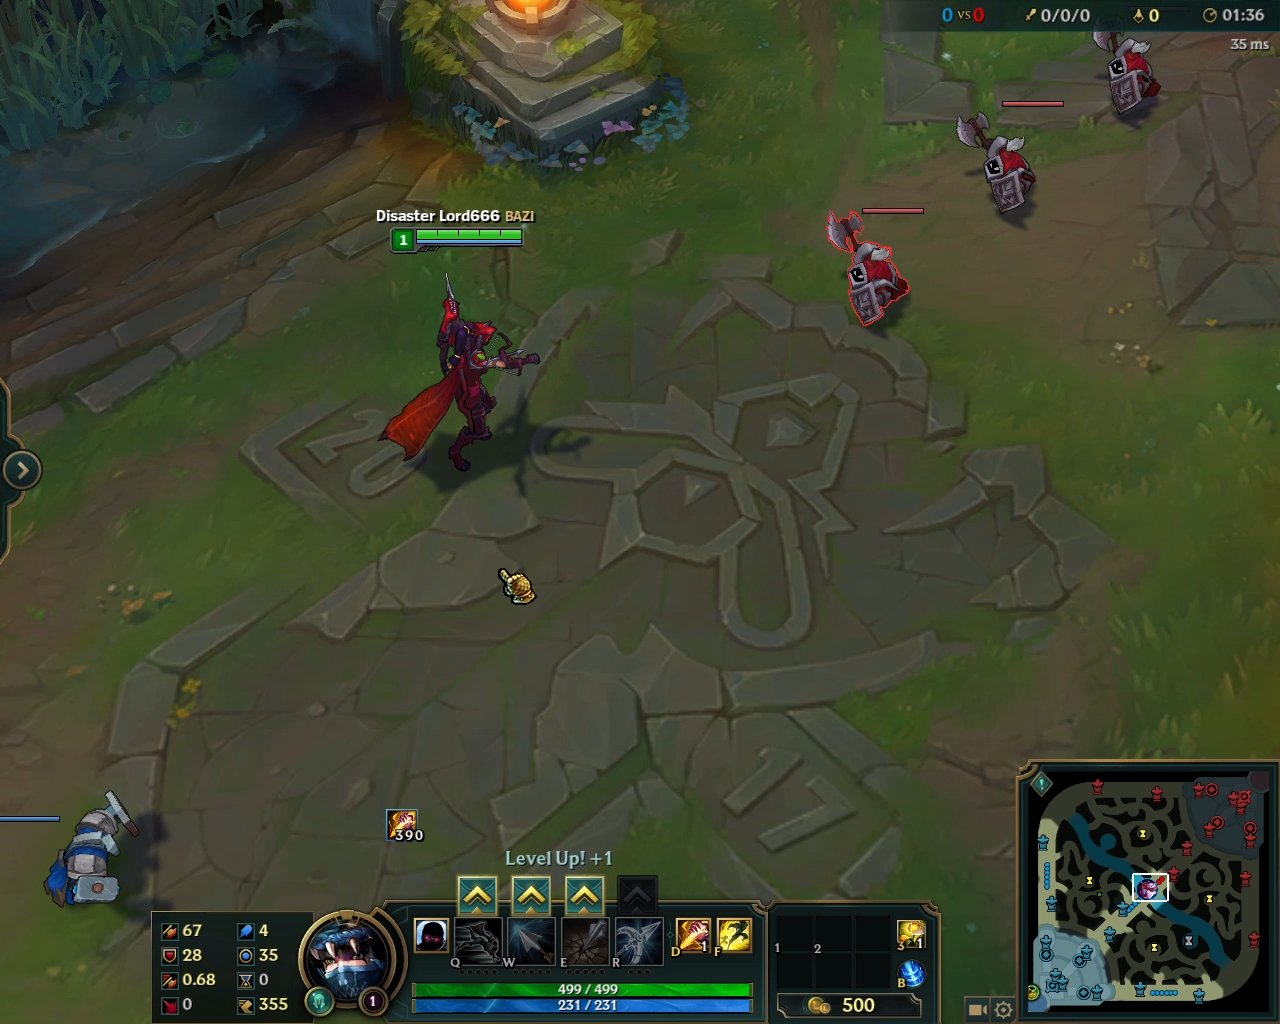EnemyMinion: (817, 208, 924, 330), (953, 100, 1062, 217), (1087, 34, 1162, 112)
Vayne: (383, 270, 542, 481)
